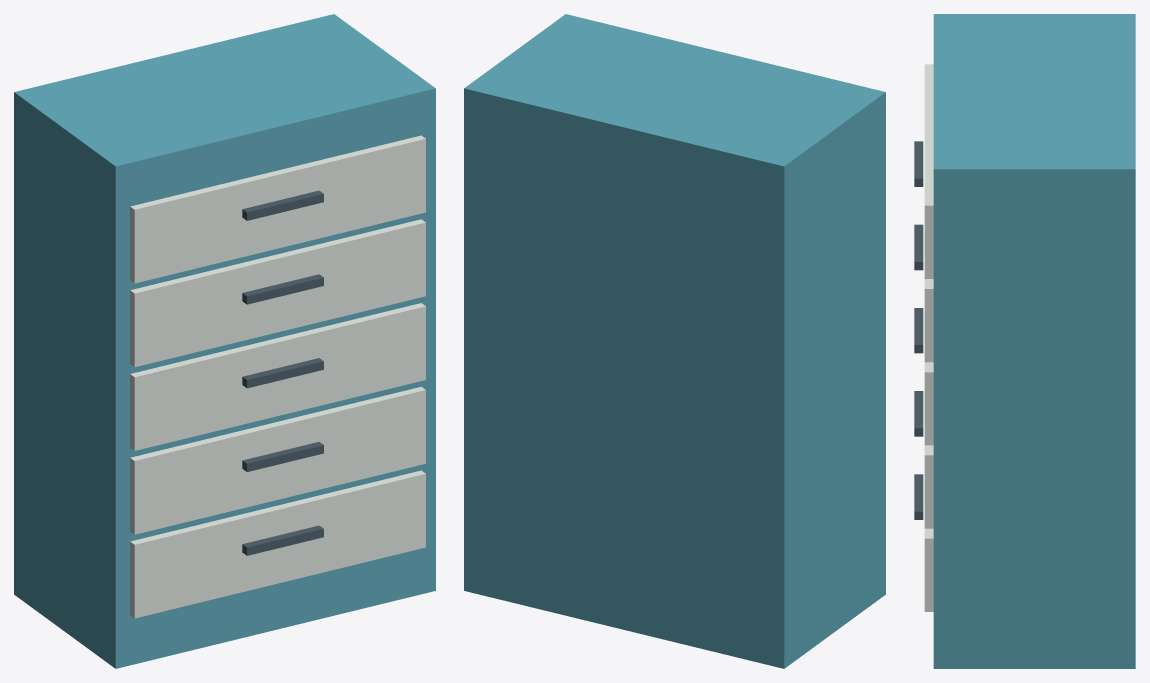
File: tool-storage-cabinet.glb
3 views of the same model, side by side, from view 1: azimuth 30°, elevation 25°; view 2: azimuth 150°, elevation 25°; view 3: azimuth 270°, elevation 25° (orthographic).
Parts seen in each view (by area): view 1: blue, cream, dark; view 2: blue; view 3: blue, cream, dark.
Boxes of the visible parts, x1,y1,x2,y2 form: blue: (14, 14, 435, 668); cream: (130, 135, 425, 618); dark: (242, 190, 323, 555); blue: (464, 14, 885, 668); blue: (933, 14, 1135, 668); cream: (924, 64, 933, 611); dark: (914, 141, 923, 519).
Size of the model in its own units: 1 by 1.5 by 0.6025.
